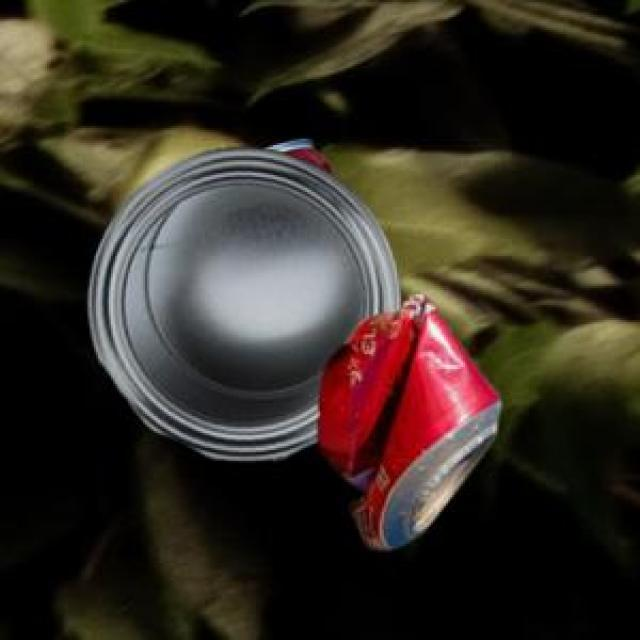Can: (86, 144, 398, 458), (317, 293, 498, 545), (266, 138, 329, 172)
